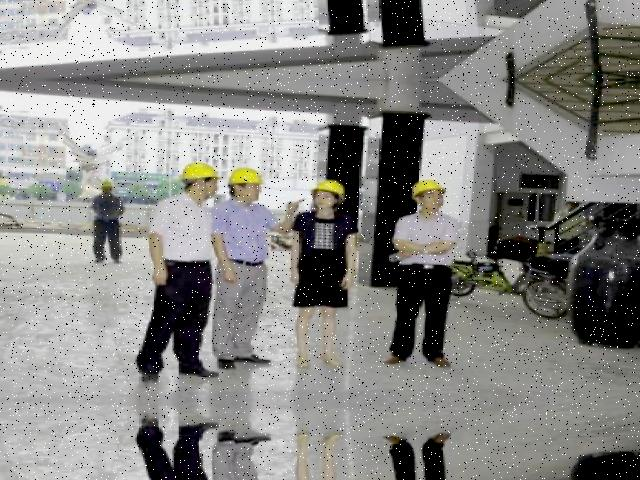Helmet: (178, 157, 226, 185), (407, 176, 454, 202), (227, 164, 270, 191), (308, 176, 352, 200)
